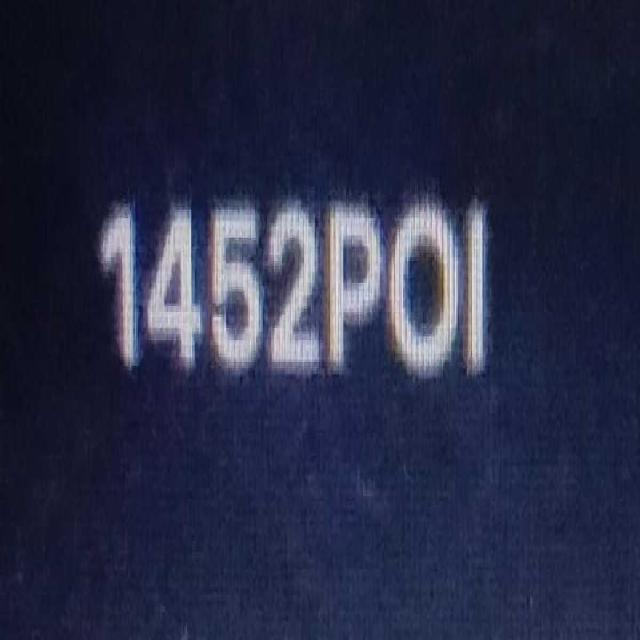license_plate: (81, 152, 506, 420), (327, 193, 381, 378)
